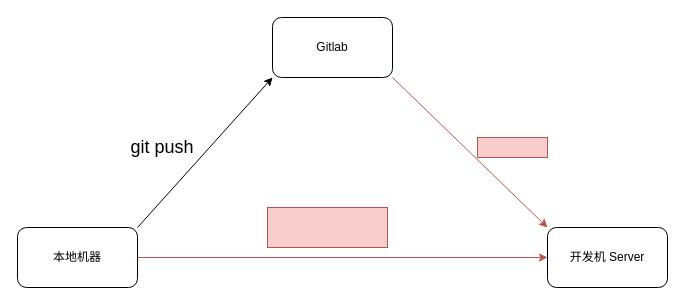
Image size: 685x305. Some labels were removed from this diagram. Each missing label, with the box of its shape:
git pull: (476, 136, 548, 158)
Login: (266, 206, 388, 248)
